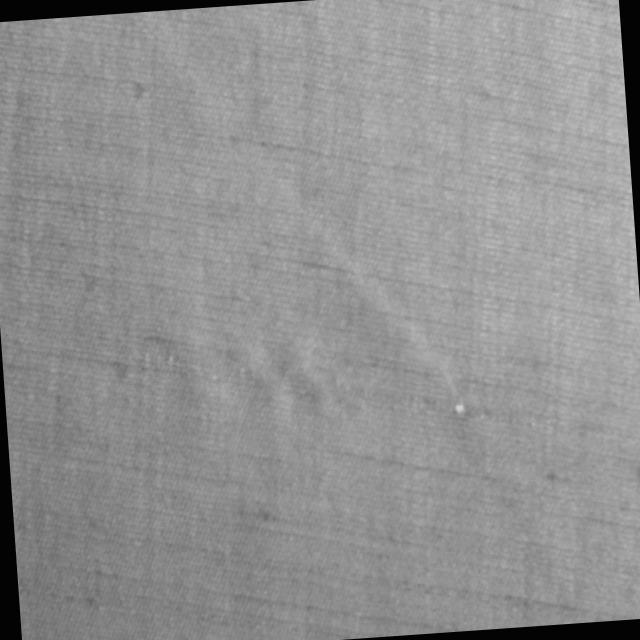hole: (454, 398, 467, 416)
